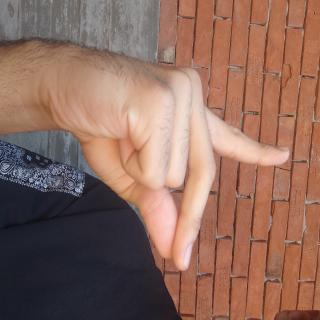TAA: (26, 31, 203, 320)
